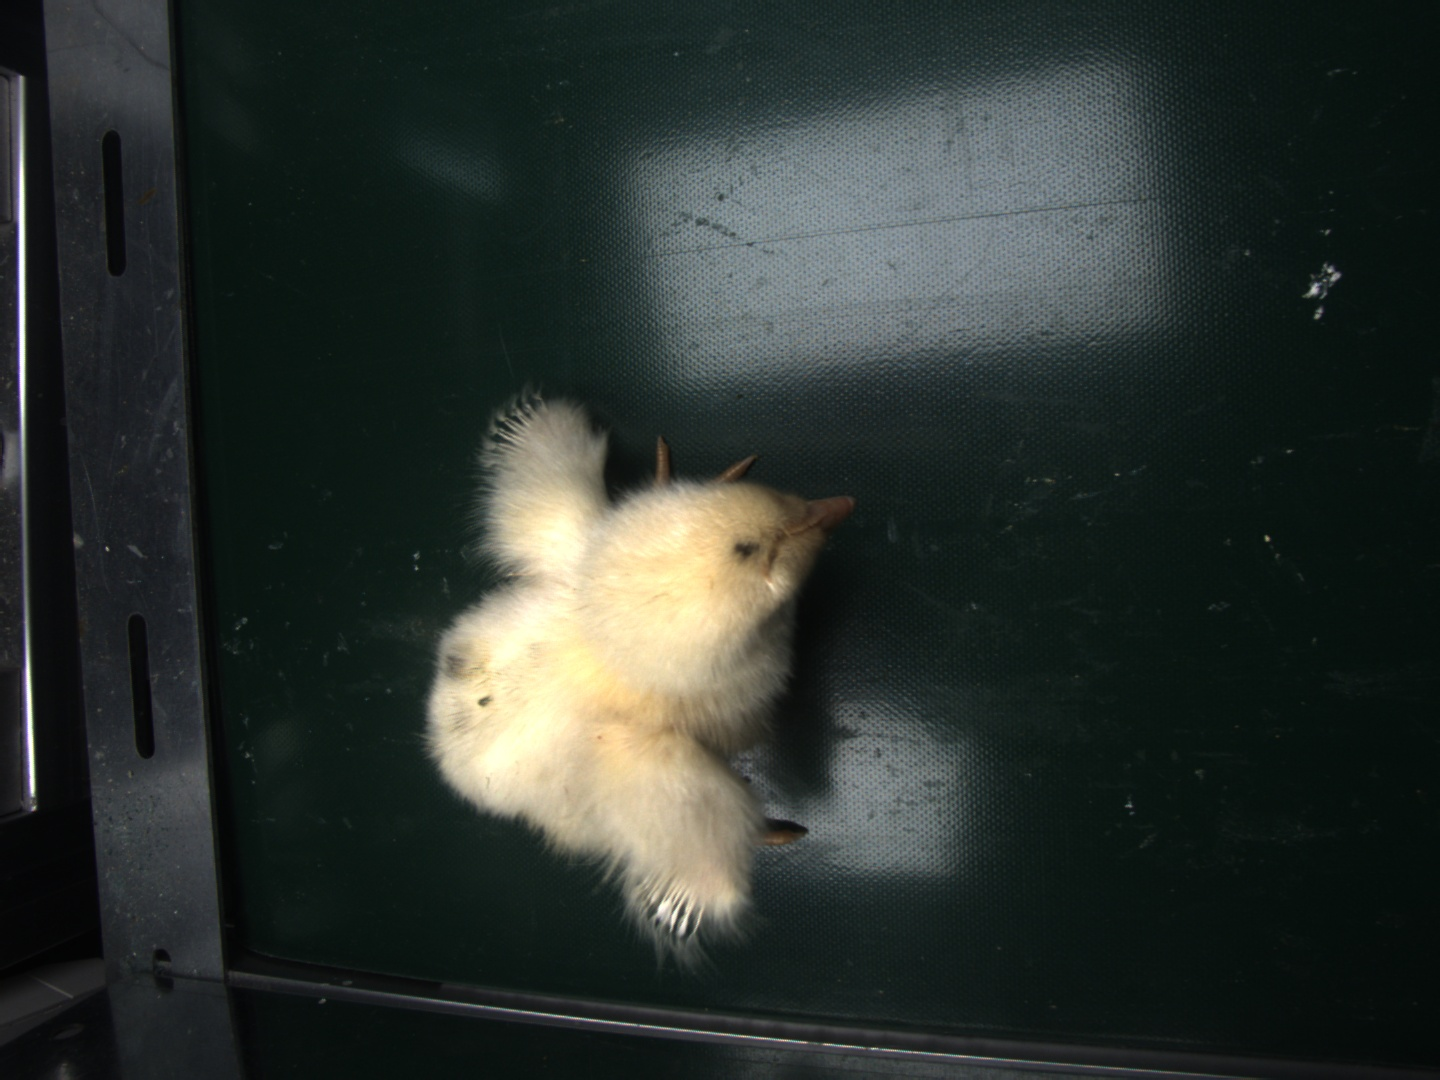male: (491, 395, 551, 456)
